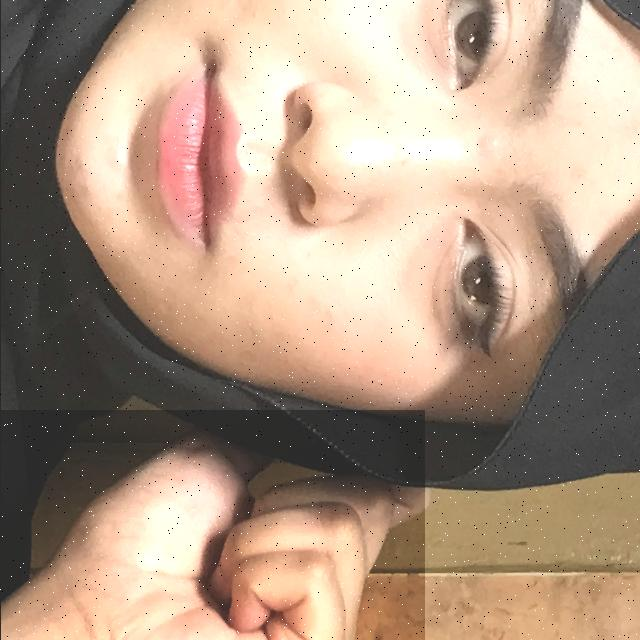ibu: (0, 410, 424, 640)
